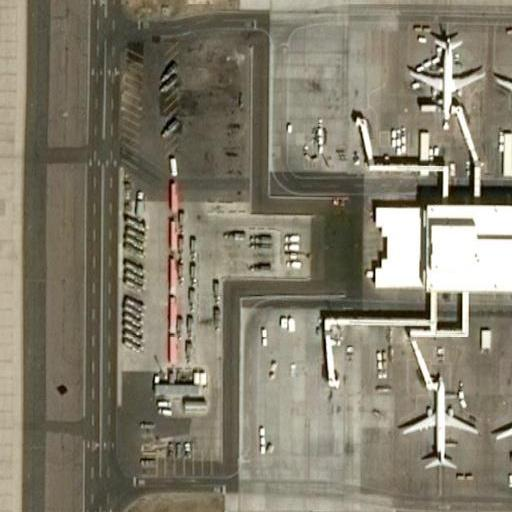Aircraft: (391, 376, 479, 475), (406, 30, 483, 125), (491, 39, 512, 130), (492, 384, 512, 476)
